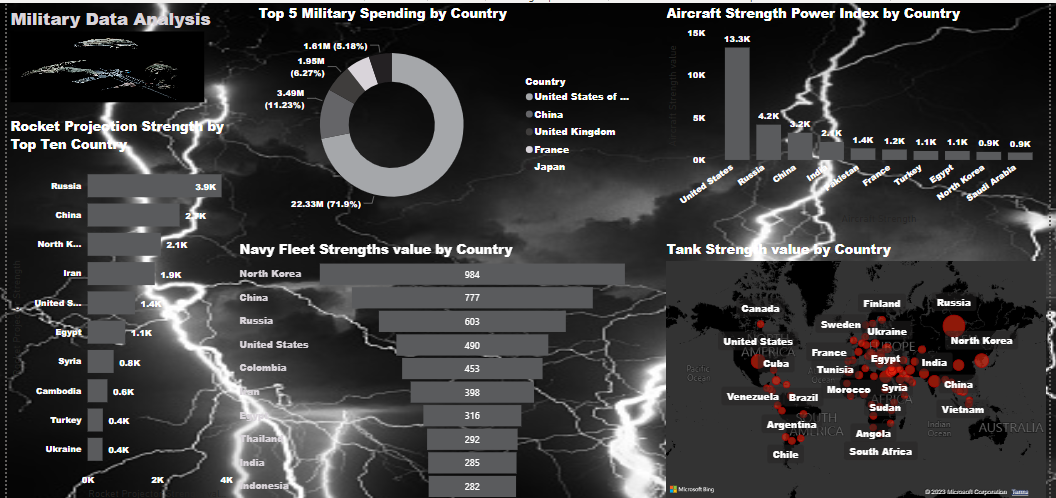

This screenshot's page, from the dashboard's own definition file:
{"tool":"powerbi","page":{"name":"Page 1","canvas":[1500,720],"ordinal":0},"visuals":[{"type":"barChart","title":"Military Strength Power Index by Country","fields":{"Category":["data.Military Strength"],"Y":["Sum(data.Military Strength Power Index)"]},"box":[0,163.2,329.7,557.1],"z":0},{"type":"clusteredColumnChart","title":"Aircraft Strength Power Index by Country","fields":{"Category":["data.Aircraft Strength"],"Y":["Sum(data.Aircraft Strength value)"]},"box":[944.6,0,555.8,324],"z":1},{"type":"map","title":"Tank Strength value by Country","fields":{"Category":["data.Tank Strength"],"Size":["Sum(data.Tank Strength value)"]},"box":[944.6,339.8,555.8,380.2],"z":2},{"type":"donutChart","title":"Top 5 Military Spending by Country","fields":{"Category":["Data (2).Country"],"Y":["Sum(Data (2).Spending (2020 USD))"]},"box":[357.1,0,560.2,324],"z":3},{"type":"funnel","title":"Navy Fleet Strengths value by Country","fields":{"Category":["data.Navy Fleet Strengths"],"Y":["Sum(data.Navy Fleet Strengths value)"]},"box":[329.8,339.8,570.2,380.2],"z":4},{"type":"textbox","box":[0,0,329.8,50.4],"z":5},{"type":"image","box":[0,36,289.4,112.3],"z":6}]}

Visuals, with their boxes in screenshot pixels (x1, y1, x2, y2), scaled from the page's 1500x720 canvas onto the 1056x498 screenshot:
"Military Strength Power Index by Country" barChart: [x1=0, y1=113, x2=232, y2=497]
"Aircraft Strength Power Index by Country" clusteredColumnChart: [x1=665, y1=0, x2=1055, y2=224]
"Tank Strength value by Country" map: [x1=665, y1=235, x2=1055, y2=497]
"Top 5 Military Spending by Country" donutChart: [x1=251, y1=0, x2=646, y2=224]
"Navy Fleet Strengths value by Country" funnel: [x1=232, y1=235, x2=634, y2=497]
textbox: [x1=0, y1=0, x2=232, y2=35]
image: [x1=0, y1=25, x2=204, y2=103]
